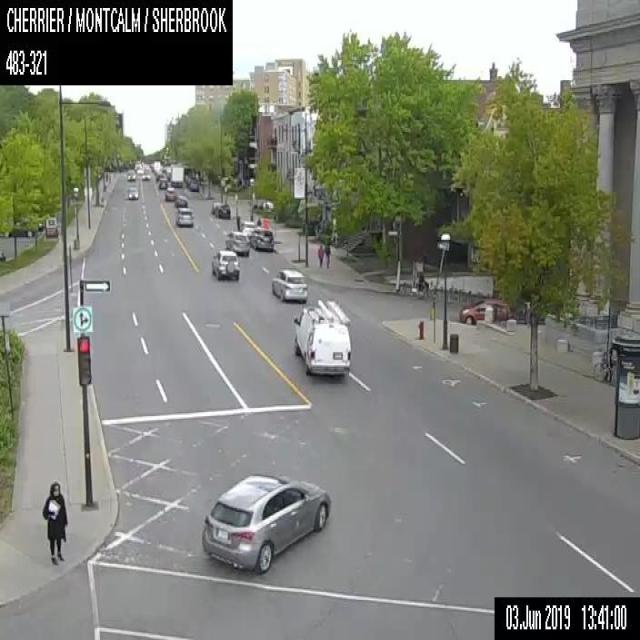construction: (262, 218, 268, 228)
pedestrian: (42, 481, 66, 564), (316, 243, 323, 267), (324, 243, 330, 267), (256, 216, 261, 225)
vehicle: (200, 473, 330, 572), (292, 298, 352, 374), (459, 296, 509, 321), (271, 269, 307, 301), (210, 248, 238, 280), (225, 231, 249, 256), (249, 227, 273, 251), (175, 207, 193, 226), (169, 165, 183, 186), (239, 220, 255, 237), (4, 228, 34, 236), (214, 202, 229, 218), (126, 184, 138, 199), (164, 185, 175, 200), (174, 195, 187, 207), (188, 178, 199, 190), (210, 200, 220, 212), (159, 178, 167, 188), (127, 170, 135, 180), (152, 160, 159, 171), (142, 172, 150, 180)
